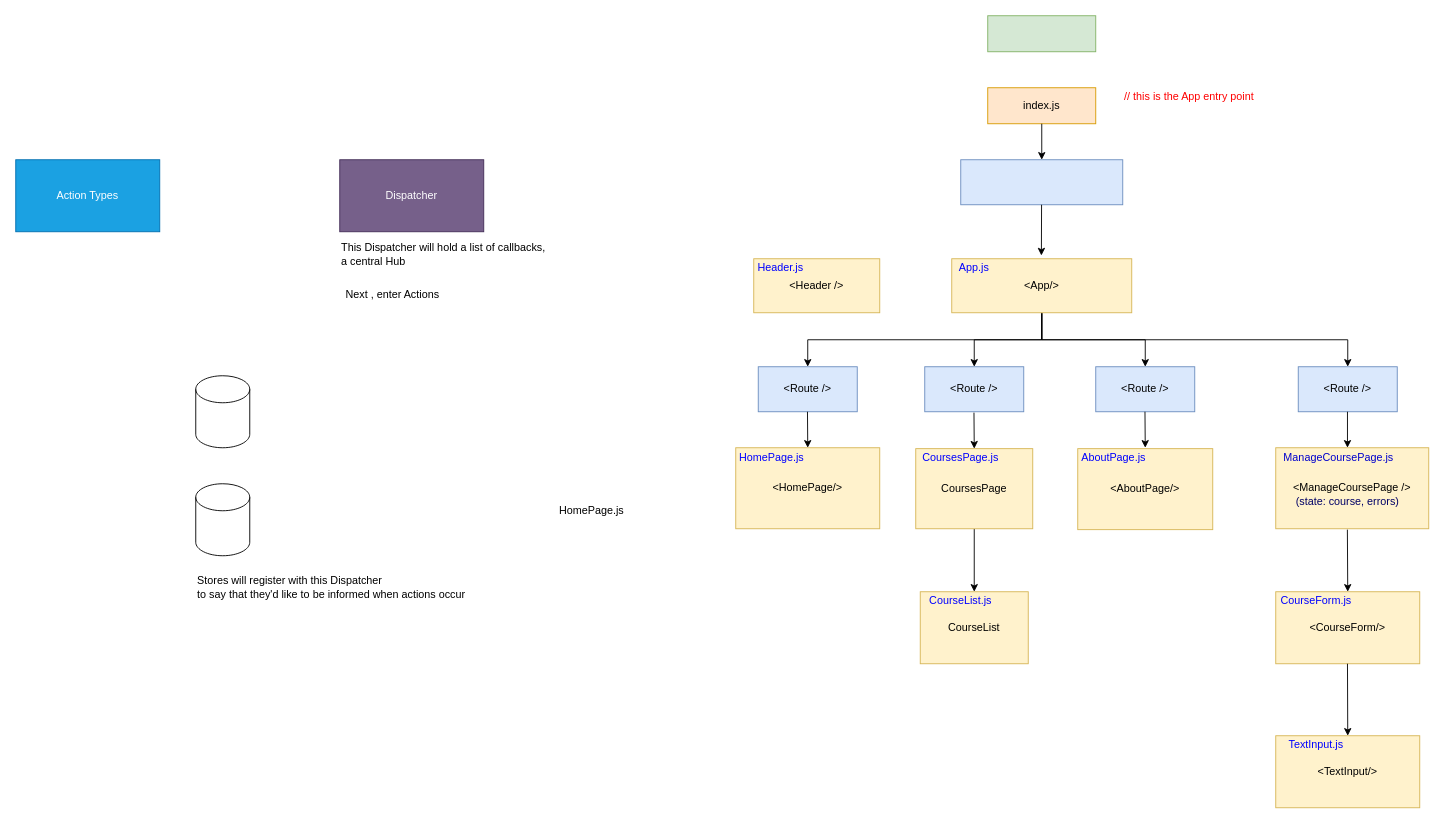
This 1445x824 diagram has some shape labels left out. Each missing label, with the centre of its shape:
<Router />: (1041,182)
index.html: (1041,33)
